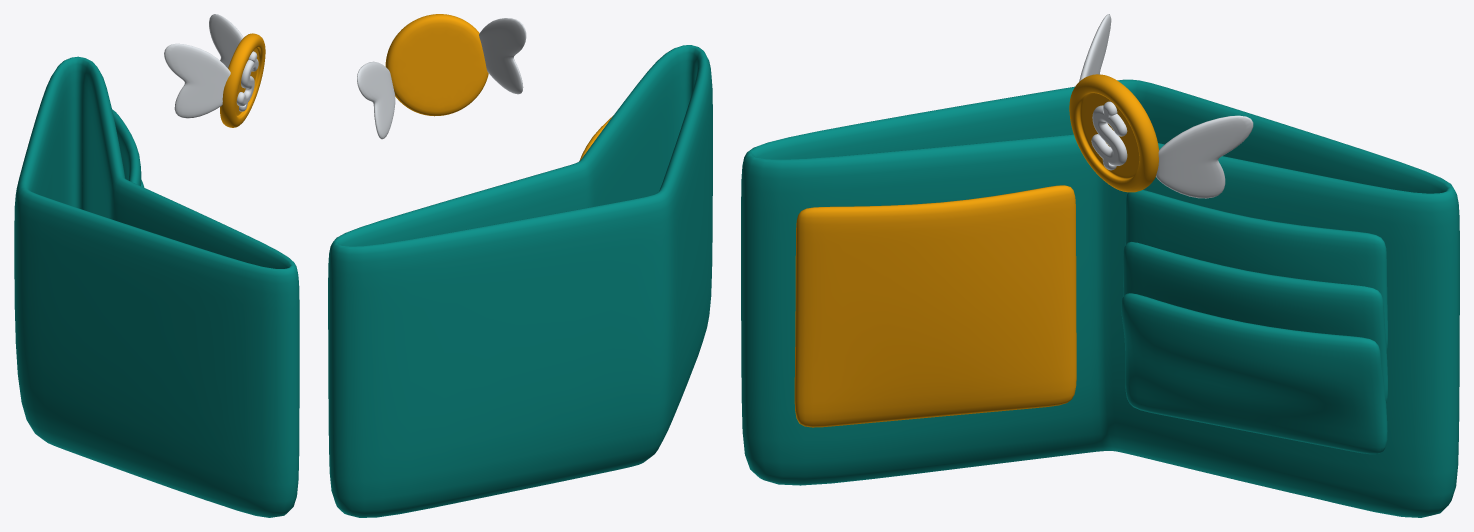
File: empty-wallet-3d-animated-icon-1162297834327.glb
3 views of the same model, side by side, from view 1: azimuth 30°, elevation 25°; view 2: azimuth 150°, elevation 25°; view 3: azimuth 270°, elevation 25° (orthographic). The views are drawn at different scales.
Visible parts, largest first — view 1: WALLET, WING_001, X SIGN, WING_002, Text; view 2: WALLET, X SIGN, WING_001, WING_002; view 3: WALLET, Plane.004, X SIGN, WING_002, Text, WING_001.
Boxes of the visible parts, x1,y1,x2,y2 form: WALLET: [14, 56, 299, 517]; WING_001: [164, 43, 230, 118]; X SIGN: [220, 33, 265, 127]; WING_002: [209, 14, 243, 67]; Text: [236, 51, 258, 111]; WALLET: [328, 45, 712, 517]; X SIGN: [385, 14, 488, 116]; WING_001: [479, 18, 526, 94]; WING_002: [357, 61, 395, 139]; WALLET: [741, 79, 1459, 517]; Plane.004: [794, 185, 1076, 427]; X SIGN: [1069, 74, 1158, 192]; WING_002: [1156, 115, 1253, 198]; Text: [1091, 101, 1127, 170]; WING_001: [1079, 14, 1111, 81].
Size of the model in its own units: 0.4338 by 0.6211 by 0.8218.
